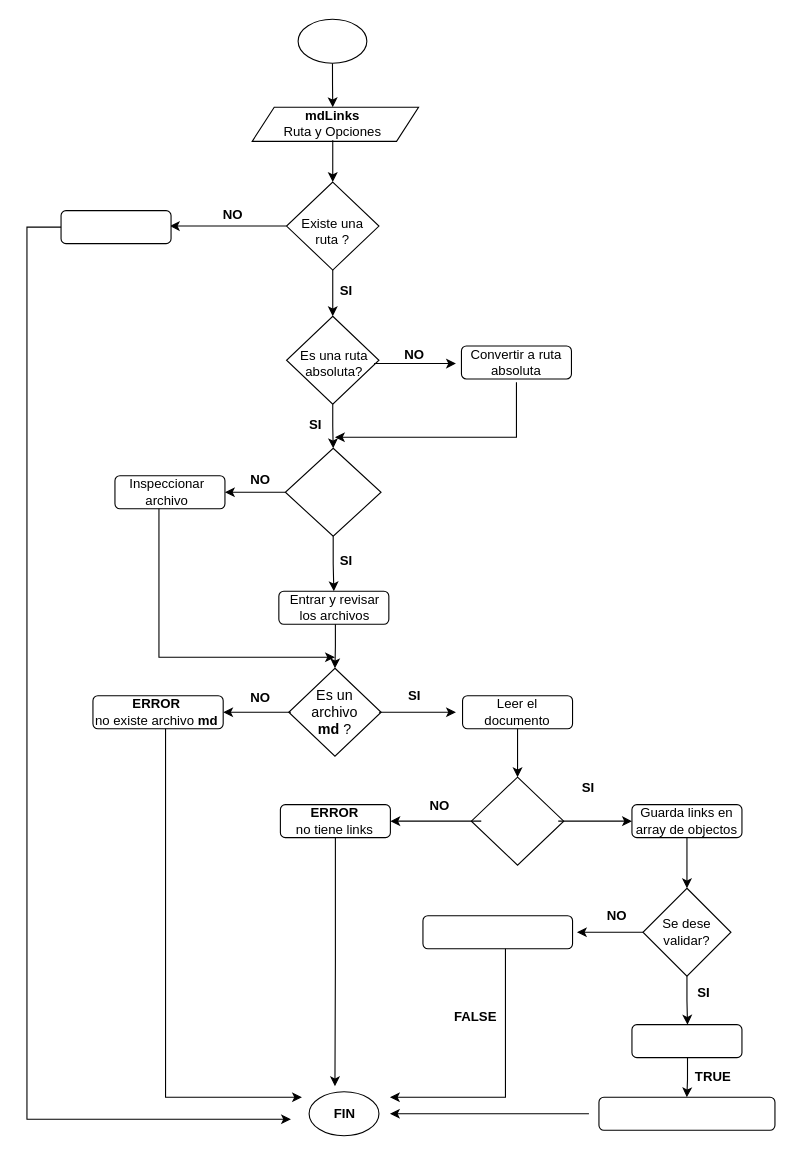
The diagram is 804 pixels wide and 1155 high, and some of its shapes have lost their labels. The shapes that lost their labels are listed below. From the top down, each one's box as (x1, y1, x2, y2) in pixels, then its label:
(297, 18, 367, 63): INICIO
(60, 210, 171, 244): ERROR La Ruta no existe
(284, 447, 381, 536): Es un directorio ?
(470, 776, 564, 865): El documento contiene links ?
(422, 915, 573, 949): Imprime array de objeto [ { href, text, file } ]
(631, 1024, 742, 1058): Hacer petición HTTP
(598, 1096, 775, 1130): Imprime array de objeto [{ href, text, file, status, ok }]
